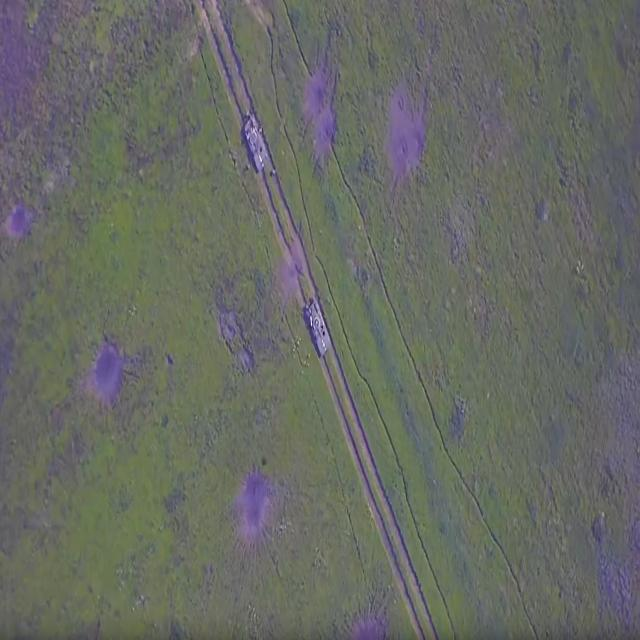AIFV: (241, 113, 275, 177), (305, 298, 334, 362)
